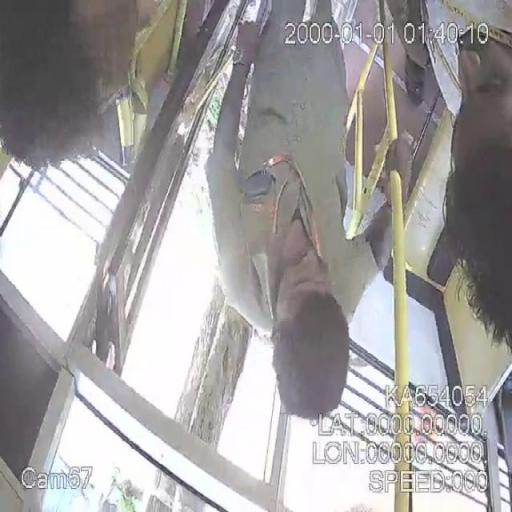persona: (202, 1, 398, 423), (421, 2, 512, 358), (0, 0, 159, 163)
